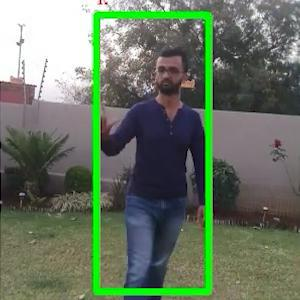land_hand: (85, 107, 120, 142)
